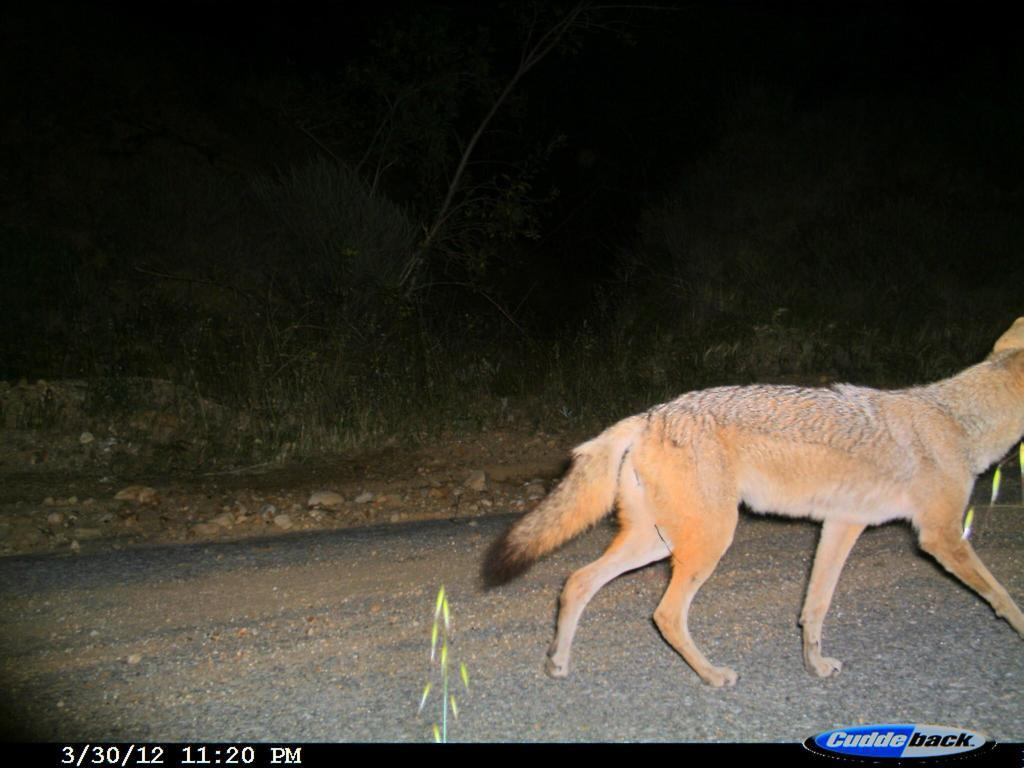coyote: (474, 305, 1023, 697)
